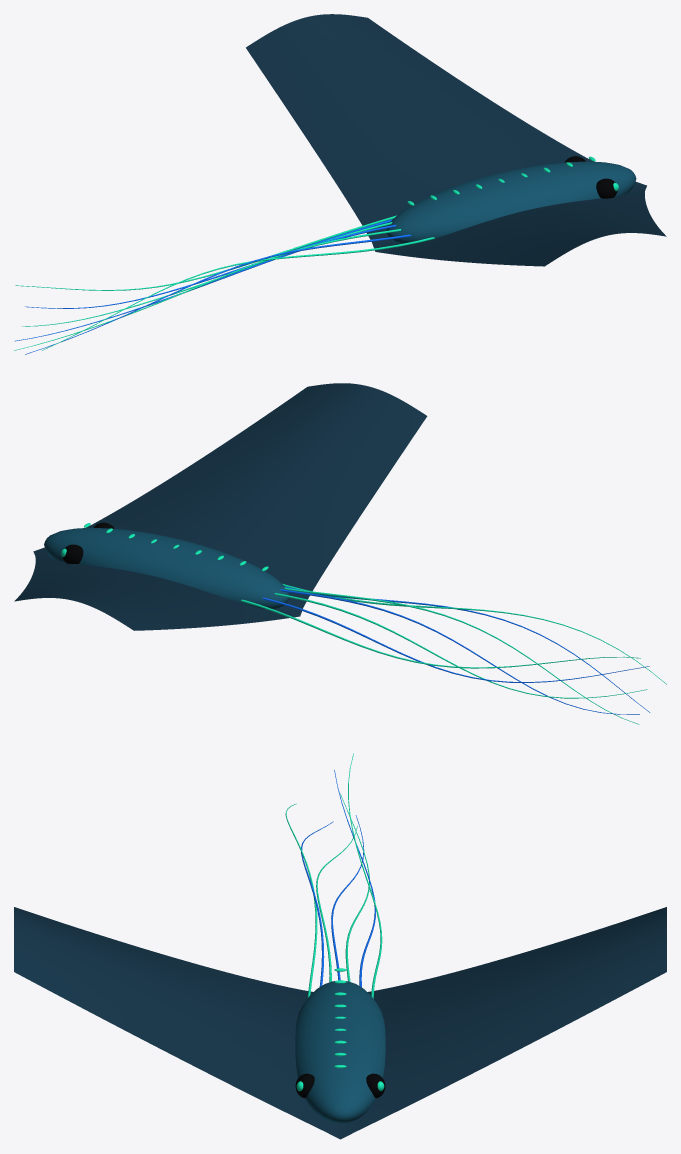
The model's file is starlight-sail.obj.
3 views of the same model, one above another, from view 1: azimuth 30°, elevation 25°; view 2: azimuth 150°, elevation 25°; view 3: azimuth 270°, elevation 25° (orthographic). The views are drawn at different scales.
Parts seen in each view (by area): view 1: sail-organism_part_168, sphere_part_0; view 2: sail-organism_part_168, sphere_part_0; view 3: sail-organism_part_168, sphere_part_0.
Part boxes in pixels (x1,y1,x2,y2): sail-organism_part_168: [246, 14, 666, 266]; sphere_part_0: [386, 161, 636, 244]; sail-organism_part_168: [14, 383, 427, 630]; sphere_part_0: [44, 527, 288, 609]; sail-organism_part_168: [14, 907, 666, 1139]; sphere_part_0: [295, 981, 385, 1123].
Size of the model in its own units: 9.66 by 1.83 by 8.
